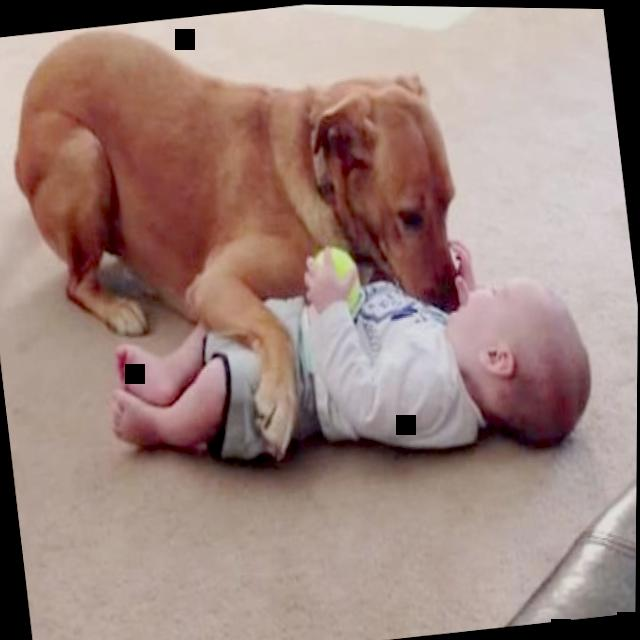Fall-Detected: (19, 0, 614, 521)
